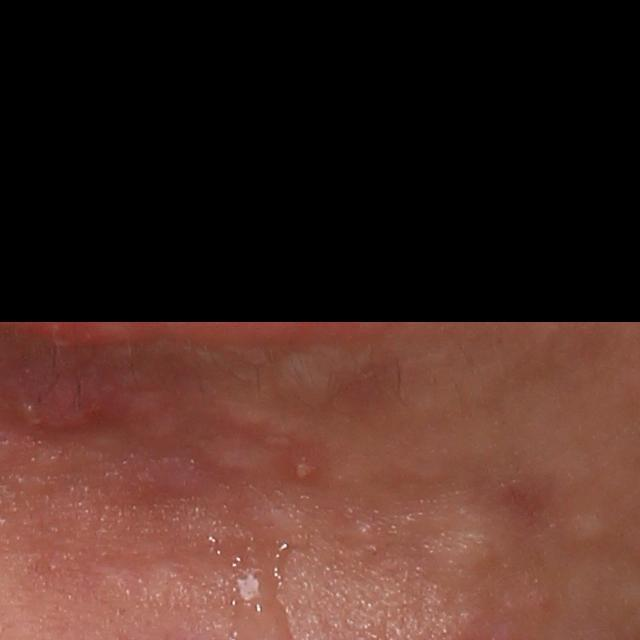hypertrophic_scar: (423, 493, 502, 581), (267, 352, 344, 417), (248, 498, 315, 552), (203, 440, 281, 482), (219, 399, 280, 435), (566, 512, 608, 549)
pustule: (286, 441, 328, 487)
